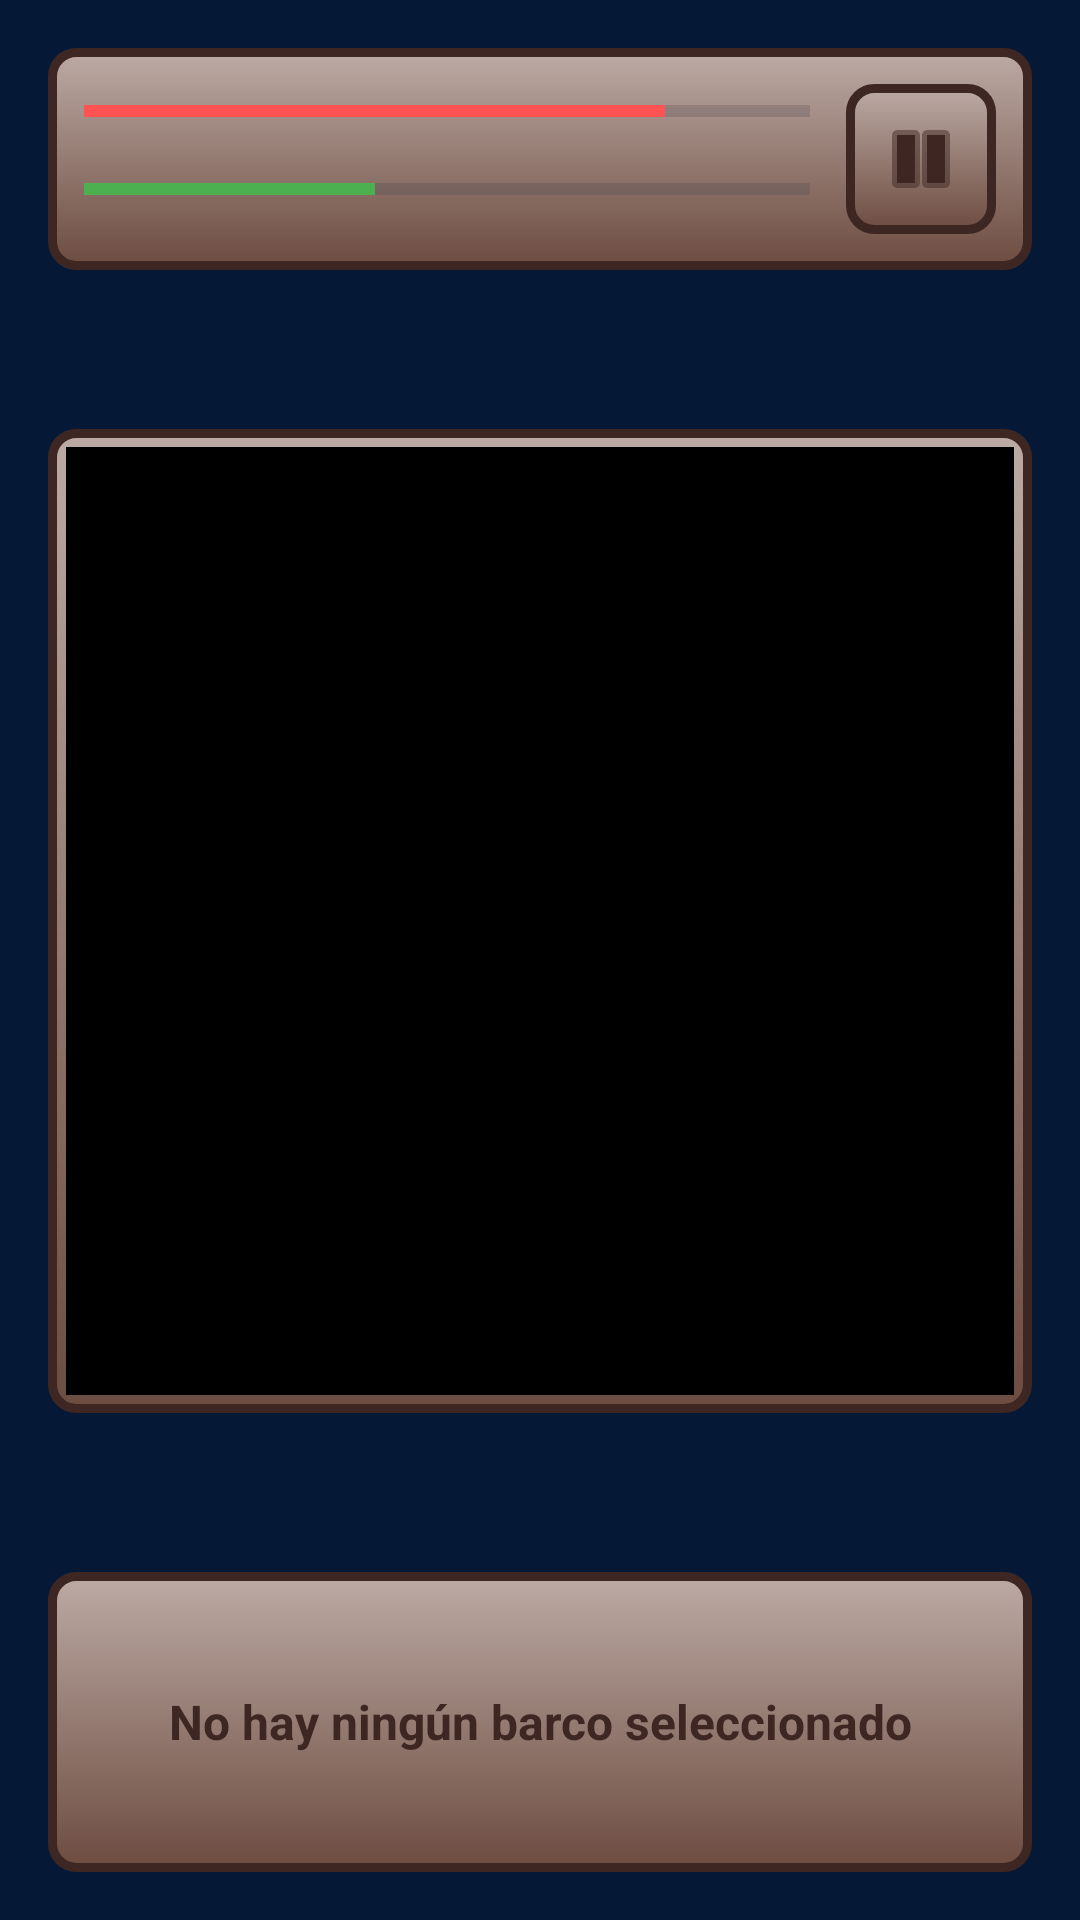

Named icons in this screenshot (1080px×1920px) and their centers, [x,y]:
pause: [921,159]
